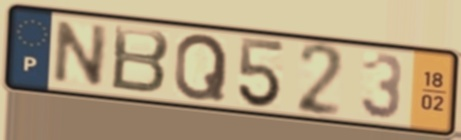2: (293, 38, 347, 120)
3: (358, 51, 404, 123)
5: (235, 33, 287, 111)
B: (109, 22, 173, 97)
N: (49, 18, 112, 89)
Q: (171, 31, 231, 103)
